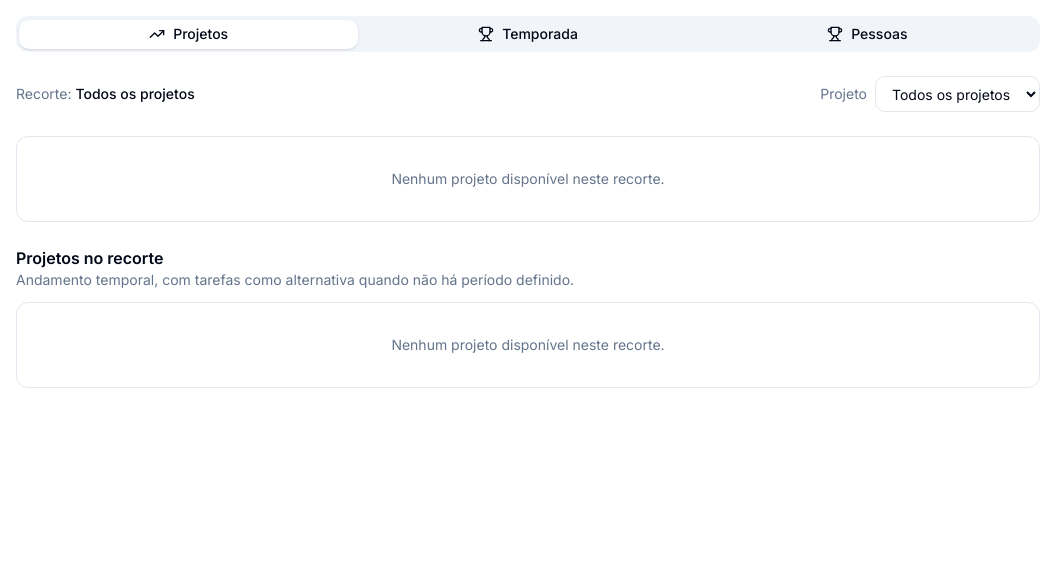
Test: aba Temporada (plan-v20 S02, DEC-255) › pódio e tabela da aba Temporada não têm bloco de posição pessoal — a temporada é o saldo acumulado
Press the mouse on the tab "Temporada" at (528, 34), box [358, 20, 698, 48]
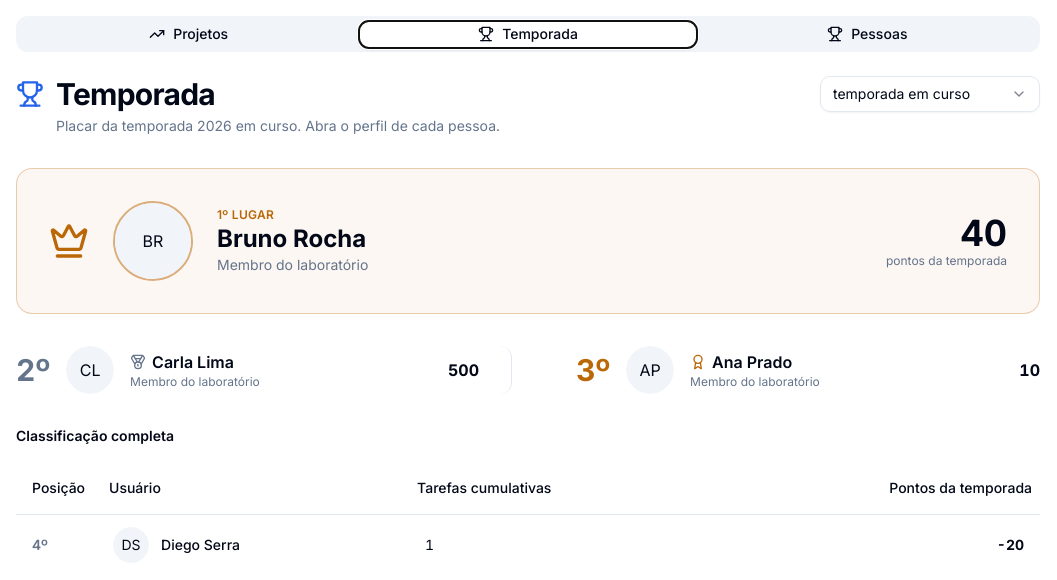
Expected: the column heading "Pontos da temporada" is shown, [716, 462, 1040, 514]
